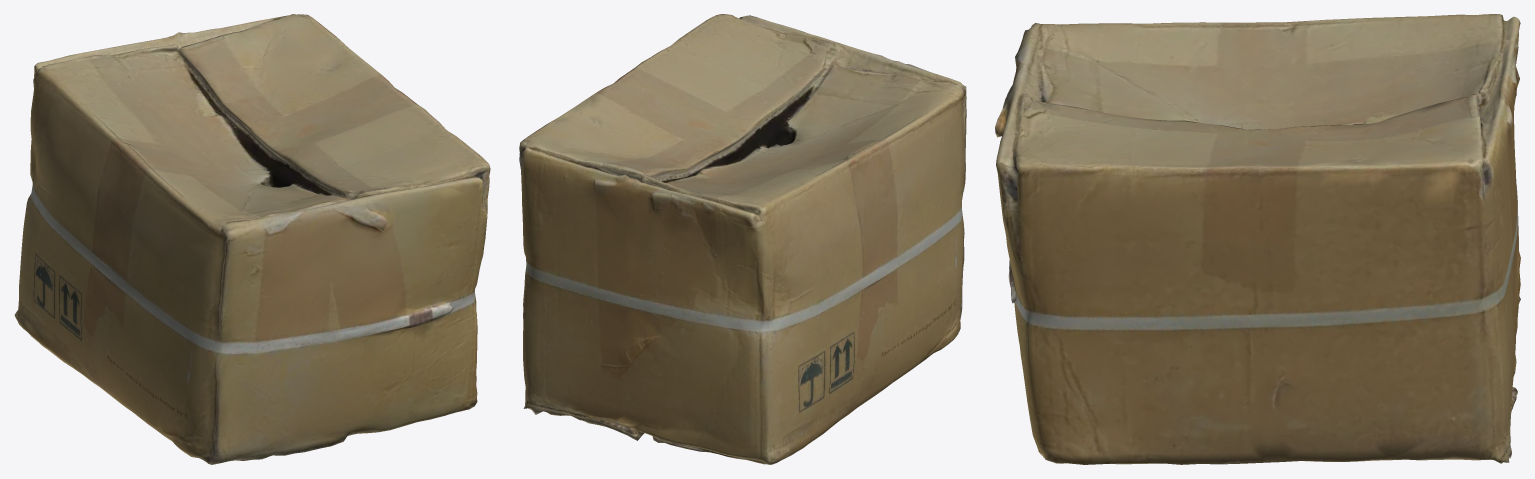
The model's file is cardboard_box_01.glb.
3 renders of one model, left to right at view 1: azimuth 30°, elevation 25°; view 2: azimuth 150°, elevation 25°; view 3: azimuth 270°, elevation 25°, orthographic. The views are drawn at different scales.
Parts seen in each view (by area): view 1: cardboard_box_01; view 2: cardboard_box_01; view 3: cardboard_box_01.
Boxes of the visible parts, box(x1,y1,x2,y2) form: cardboard_box_01: box(14, 14, 490, 464); cardboard_box_01: box(519, 14, 966, 464); cardboard_box_01: box(995, 14, 1520, 464).
Bounding box in the file's own units: 0.387 × 0.3418 × 0.5159.
1 material, 1 textured.
